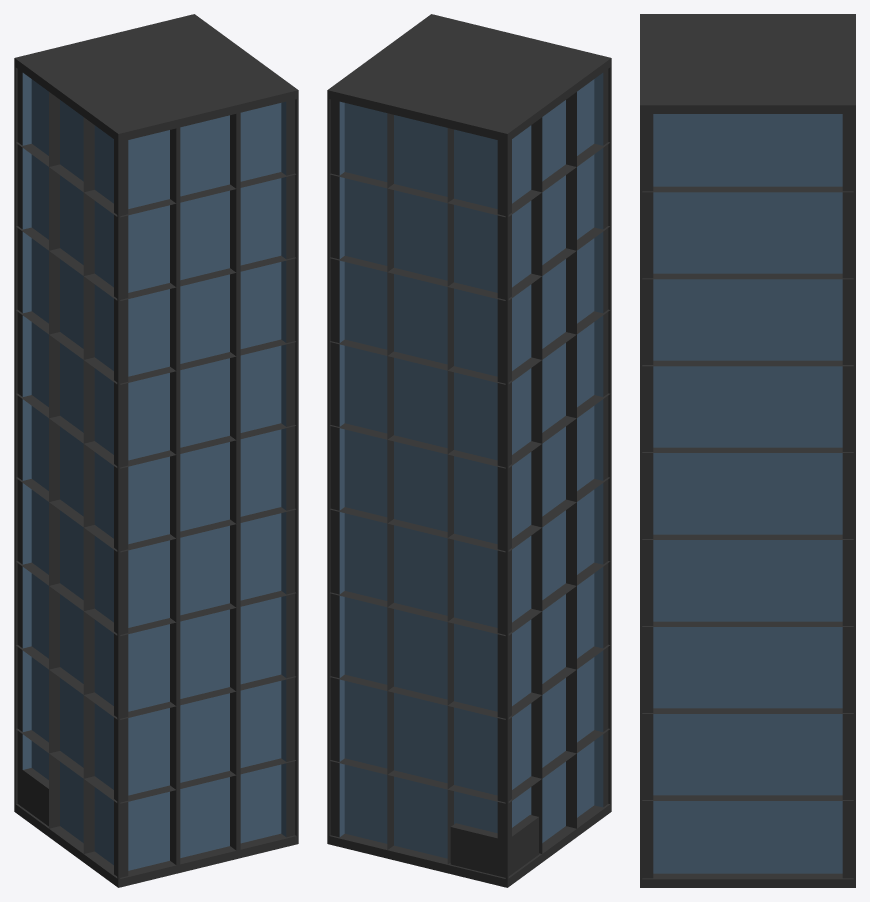
Rendered from skyscraper.fbx.
The picture shows the model from 3 angles, left to right: view 1: azimuth 30°, elevation 25°; view 2: azimuth 150°, elevation 25°; view 3: azimuth 270°, elevation 25°; orthographic projection. The views are drawn at different scales.
Visible parts, largest first — view 1: Skyscraper; view 2: Skyscraper; view 3: Skyscraper.
Part boxes in pixels (x1,y1,x2,y2): Skyscraper: [14, 14, 298, 887]; Skyscraper: [327, 14, 611, 887]; Skyscraper: [640, 14, 855, 887].
Bounding box in the file's own units: 1000 × 4000 × 1000.
